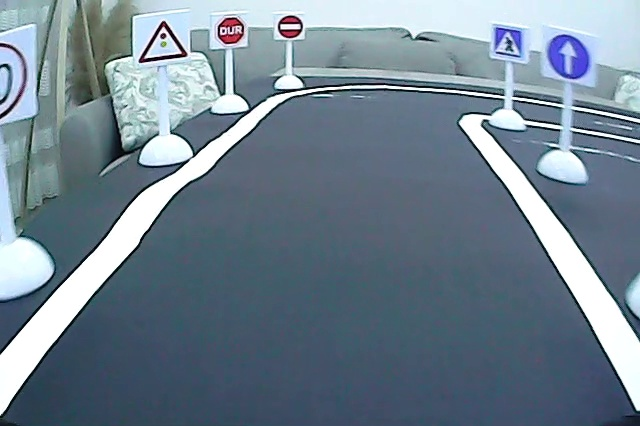do not enter: (276, 14, 304, 41)
pedestrian crossing: (489, 25, 527, 62)
red light: (135, 17, 189, 66)
stop sign: (214, 14, 247, 48)
